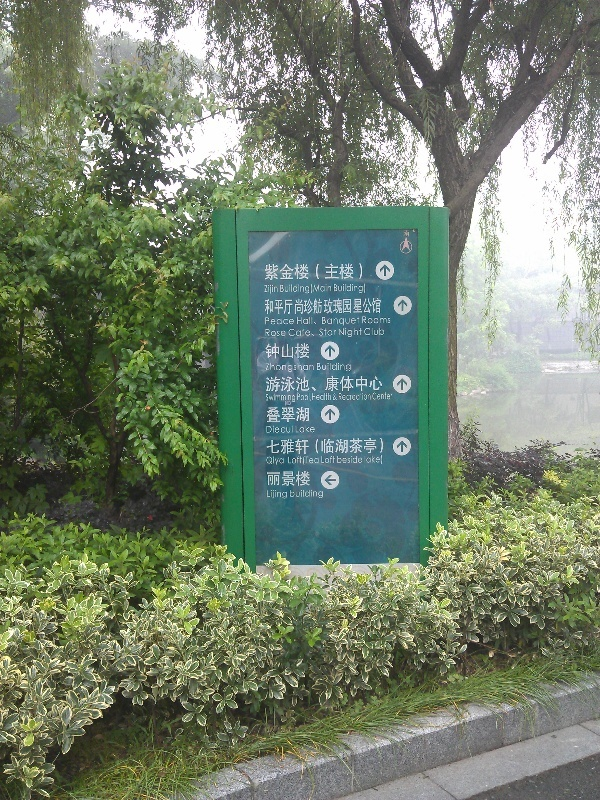text: (369, 437, 385, 455), (273, 263, 288, 281), (289, 263, 304, 281), (305, 263, 320, 281), (321, 263, 336, 281), (337, 263, 352, 281), (273, 406, 288, 424), (289, 406, 304, 424), (273, 437, 288, 455), (289, 437, 304, 455), (305, 437, 320, 455), (321, 437, 336, 455), (337, 437, 352, 455), (353, 437, 368, 455), (273, 470, 288, 488), (289, 470, 304, 488), (273, 298, 288, 315), (289, 298, 304, 315), (305, 298, 320, 315), (321, 298, 336, 315), (337, 298, 352, 315), (353, 298, 368, 315), (273, 376, 288, 393), (289, 376, 304, 393), (305, 376, 320, 393), (321, 376, 336, 393), (337, 376, 352, 393), (353, 376, 368, 393), (273, 343, 288, 359), (289, 343, 304, 359), (369, 376, 383, 393), (369, 298, 381, 315), (353, 263, 364, 281), (289, 284, 304, 295), (273, 363, 288, 373), (289, 363, 304, 373), (273, 317, 288, 327), (273, 490, 288, 500), (321, 363, 336, 373), (337, 363, 352, 373), (369, 455, 384, 465), (337, 284, 352, 294), (264, 263, 272, 281), (321, 328, 337, 337), (338, 328, 352, 338), (264, 298, 272, 315), (273, 394, 288, 403), (273, 425, 288, 434), (337, 317, 352, 326), (369, 328, 384, 337), (305, 456, 320, 465), (305, 490, 320, 499), (353, 284, 366, 294), (305, 406, 312, 424), (305, 470, 312, 488), (322, 317, 336, 326), (290, 490, 304, 499), (321, 284, 332, 295), (369, 317, 384, 325), (289, 329, 304, 337), (353, 393, 368, 401), (321, 456, 336, 464), (337, 456, 352, 464), (265, 376, 272, 393), (289, 456, 302, 465), (265, 343, 272, 359), (273, 329, 287, 337), (266, 406, 272, 424), (266, 470, 272, 488), (305, 317, 317, 326), (372, 392, 384, 401), (403, 230, 416, 238), (339, 393, 352, 401), (305, 363, 315, 373), (353, 328, 363, 338), (273, 457, 284, 466), (311, 284, 320, 295), (267, 437, 272, 455), (264, 284, 272, 295), (280, 284, 288, 295), (321, 393, 332, 401), (305, 426, 316, 434), (305, 343, 310, 359), (264, 363, 272, 373), (264, 317, 272, 327), (305, 329, 315, 337), (353, 456, 363, 464), (353, 317, 361, 326), (385, 392, 393, 401), (295, 426, 304, 434), (312, 393, 320, 401), (265, 394, 272, 403), (289, 394, 296, 403), (265, 425, 272, 434), (297, 317, 304, 326), (289, 317, 295, 327), (266, 490, 272, 500), (265, 329, 272, 337), (305, 393, 312, 401), (273, 284, 278, 295), (305, 284, 310, 295), (266, 457, 272, 466), (362, 317, 368, 325), (385, 317, 391, 325), (298, 393, 304, 401), (289, 425, 294, 434), (364, 455, 368, 465), (364, 328, 368, 337), (317, 363, 320, 373), (321, 490, 324, 499), (333, 393, 336, 401), (369, 393, 372, 401), (334, 284, 336, 294), (319, 328, 320, 337), (385, 328, 386, 337), (303, 456, 304, 465), (337, 393, 338, 401)
